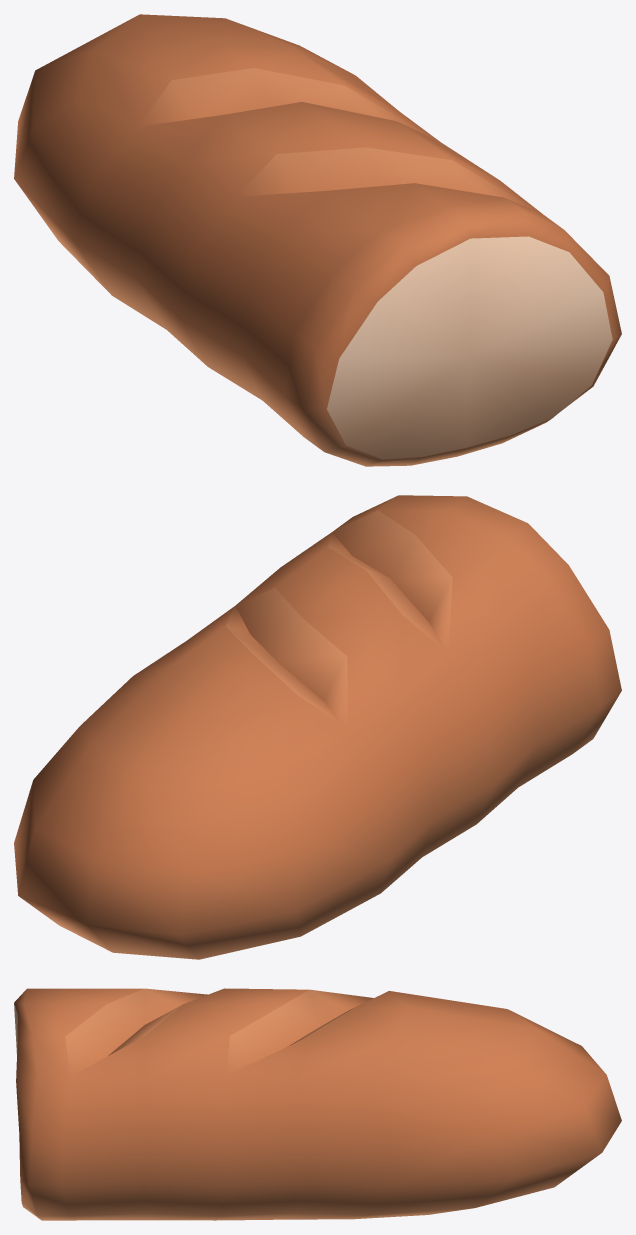
The model's file is baguette_half.obj.
The picture shows the model from 3 angles, top to bottom: view 1: azimuth 30°, elevation 25°; view 2: azimuth 150°, elevation 25°; view 3: azimuth 270°, elevation 25°; orthographic projection. The views are drawn at different scales.
Visible parts, largest first — view 1: baguette_half; view 2: baguette_half; view 3: baguette_half.
Boxes of the visible parts, x1,y1,x2,y2 form: baguette_half: (14,14,621,466); baguette_half: (14,495,621,959); baguette_half: (14,988,621,1220).
Bounding box in the file's own units: 0.3706 × 0.2716 × 0.7864.
Materials: 1 (1 with a texture image).
